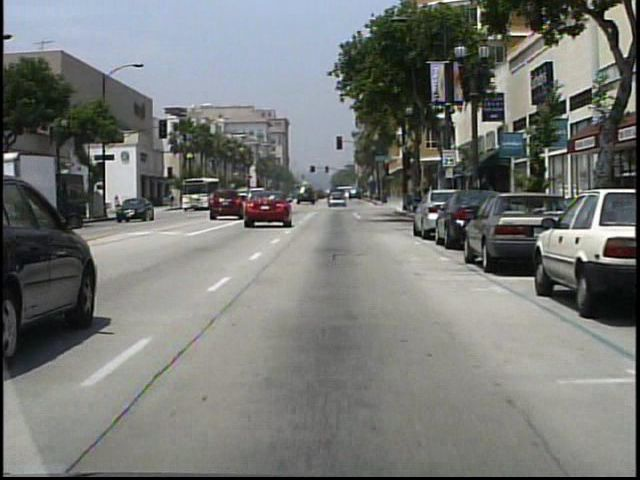person: (113, 195, 122, 216)
